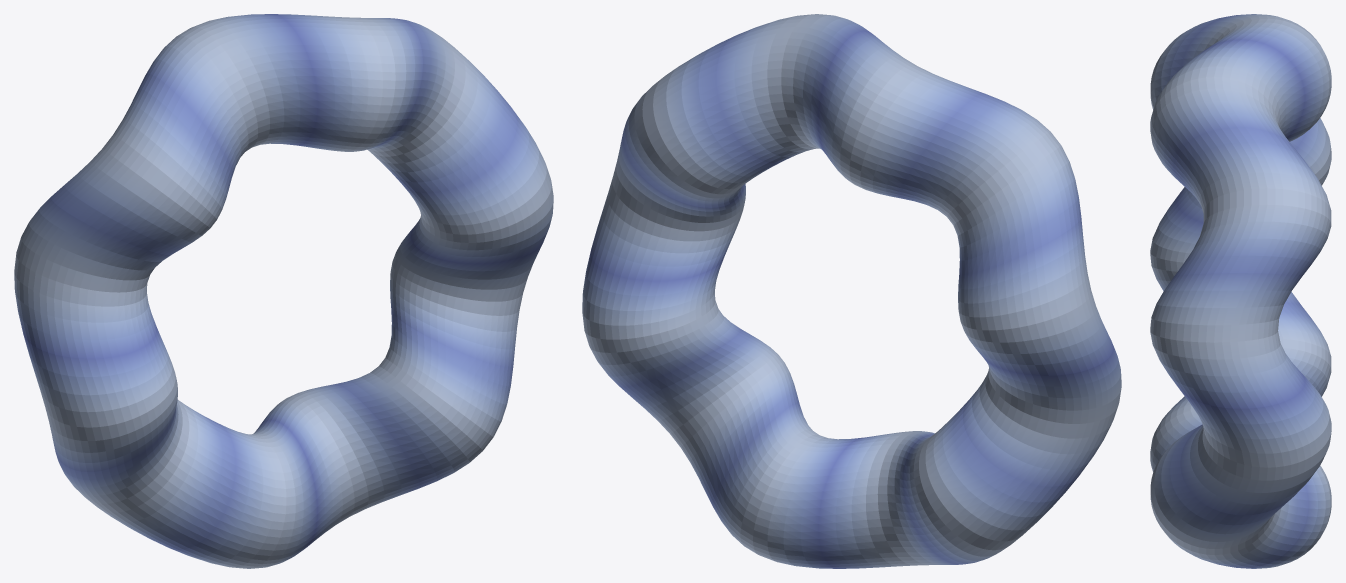
The model's file is step_6.glb.
3 views of the same model, side by side, from view 1: azimuth 30°, elevation 25°; view 2: azimuth 150°, elevation 25°; view 3: azimuth 270°, elevation 25° (orthographic). The views are drawn at different scales.
Visible parts, largest first — view 1: world; view 2: world; view 3: world.
Part boxes in pixels (left/top/right/bottom): world: left=14, top=14, right=553, bottom=568; world: left=582, top=14, right=1121, bottom=568; world: left=1150, top=14, right=1331, bottom=568.
Bounding box in the file's own units: 26 × 26 × 8.51.
